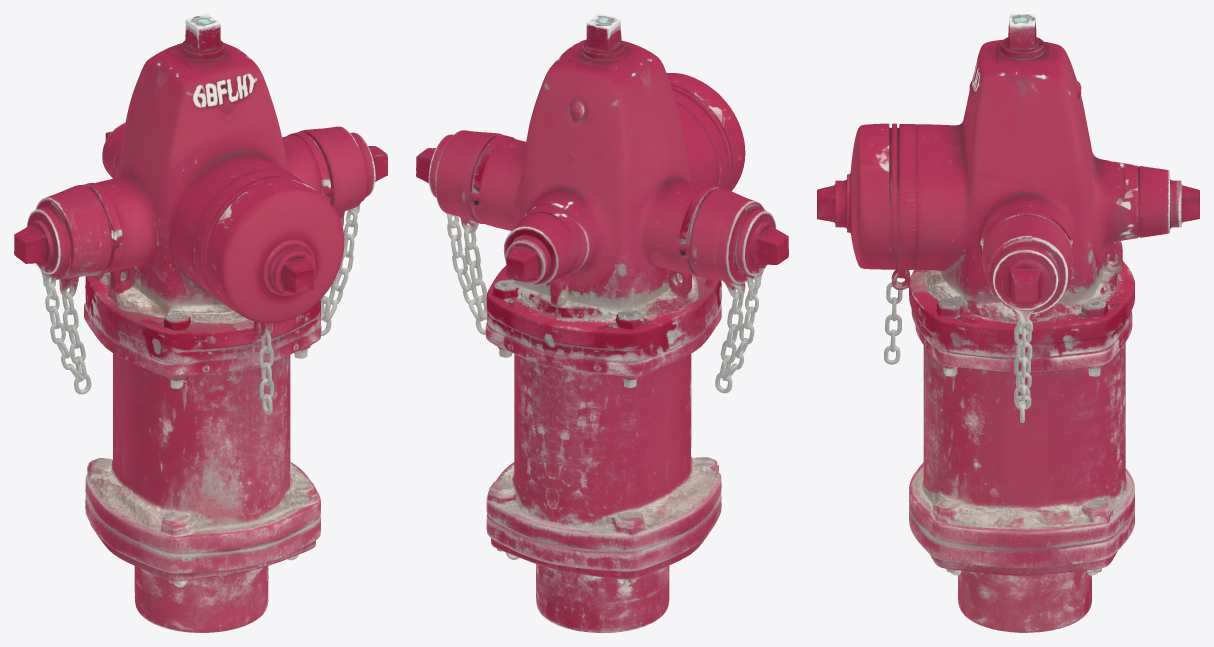
Rendered from hydrant-compressed.glb.
The picture shows the model from 3 angles, left to right: view 1: azimuth 30°, elevation 25°; view 2: azimuth 150°, elevation 25°; view 3: azimuth 270°, elevation 25°; orthographic projection.
Bounding box in the file's own units: 1.23 × 1.9 × 1.12.
Materials: 1 (1 with a texture image).
